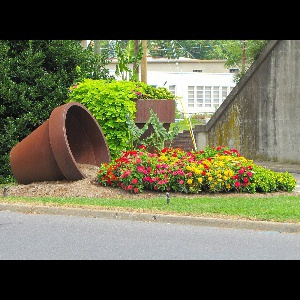flowerpot: (10, 103, 112, 189)
